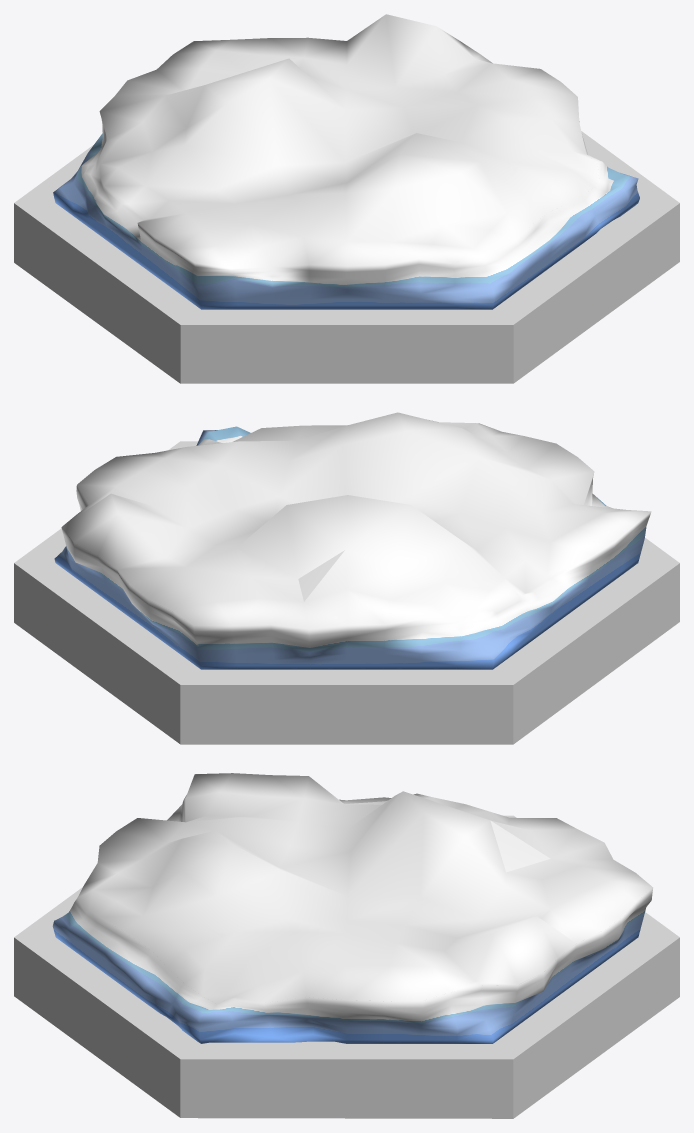
The model's file is arctic.fbx.
The picture shows the model from 3 angles, top to bottom: view 1: azimuth 30°, elevation 25°; view 2: azimuth 150°, elevation 25°; view 3: azimuth 270°, elevation 25°; orthographic projection.
Parts seen in each view (by area): view 1: Hexagon.001, Hexagon; view 2: Hexagon.001, Hexagon; view 3: Hexagon.001, Hexagon.
Part boxes in pixels (box(x1,y1,x2,y2)): Hexagon.001: box(53, 14, 639, 309); Hexagon: box(14, 131, 679, 383); Hexagon.001: box(54, 412, 651, 669); Hexagon: box(14, 441, 679, 744); Hexagon.001: box(52, 773, 653, 1043); Hexagon: box(14, 815, 679, 1118).
Bounding box in the file's own units: 173 × 54.8 × 200.
